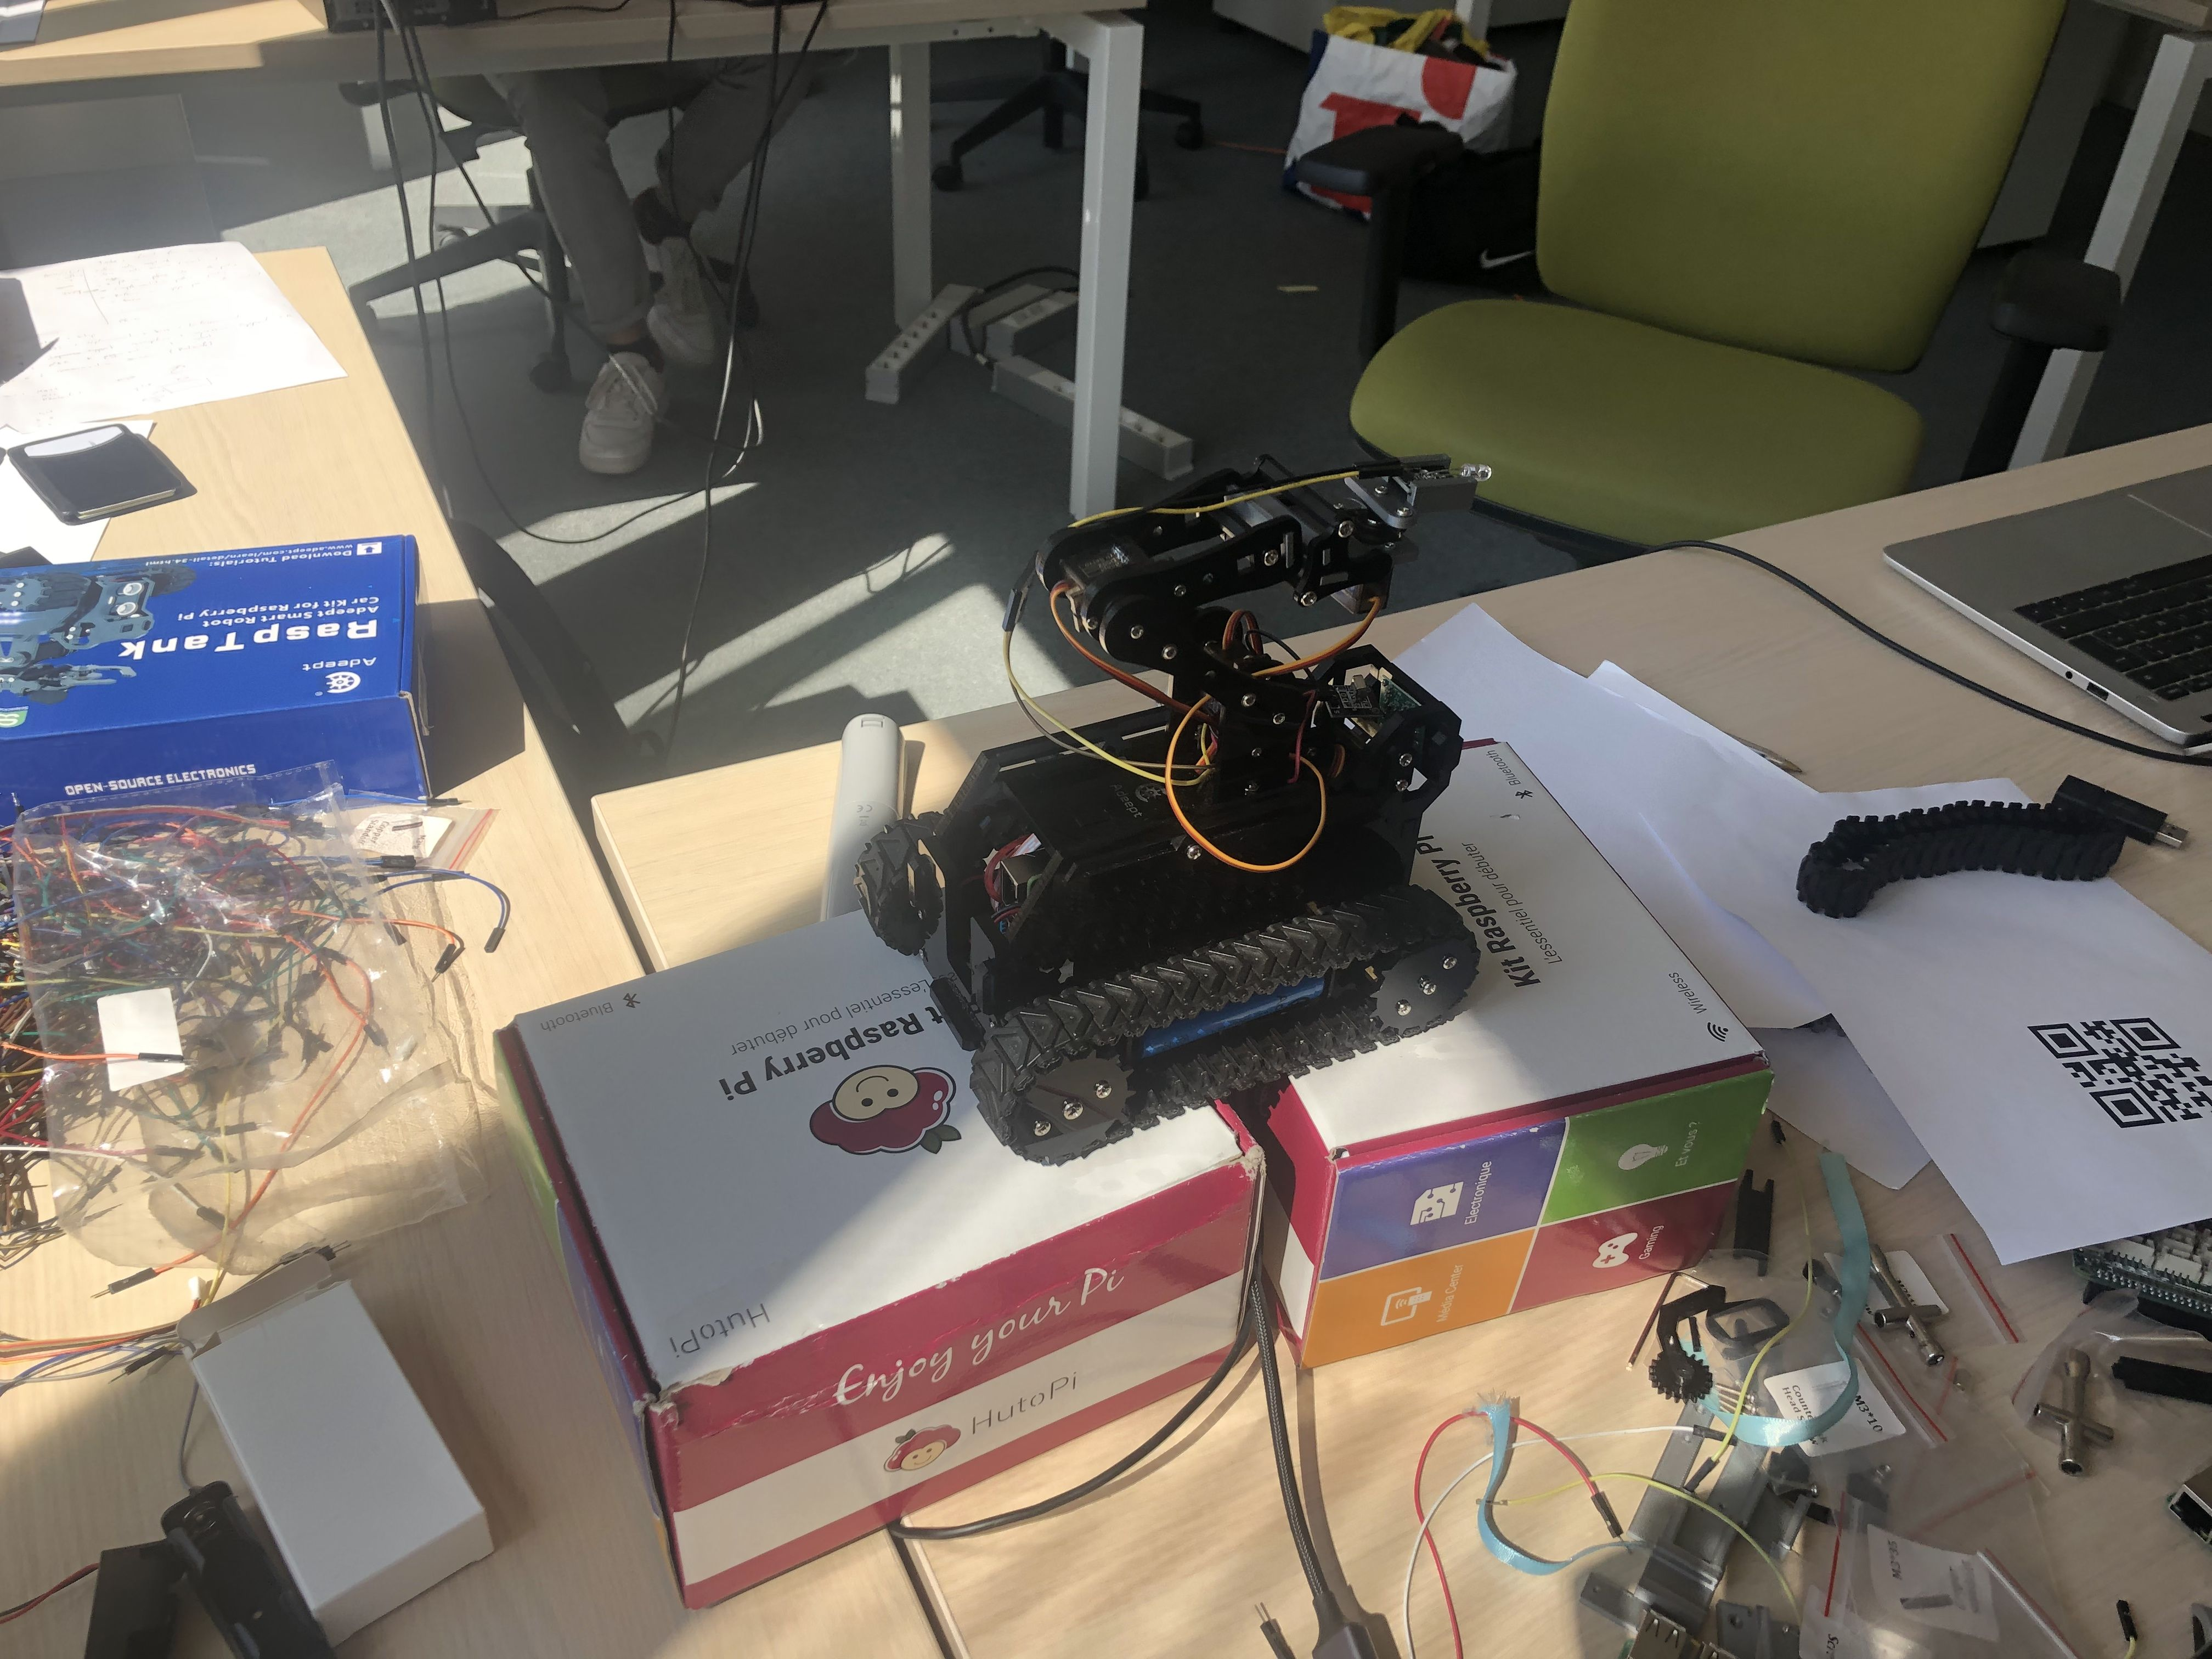rasptank: (859, 450, 1526, 1168)
